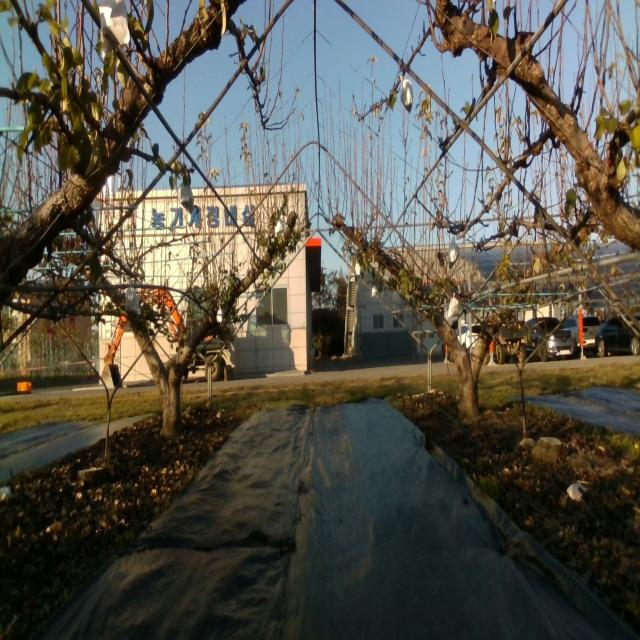pearbags: (98, 0, 130, 51), (177, 180, 194, 213), (399, 74, 413, 114), (125, 286, 141, 314), (447, 238, 459, 270), (447, 292, 461, 318)
